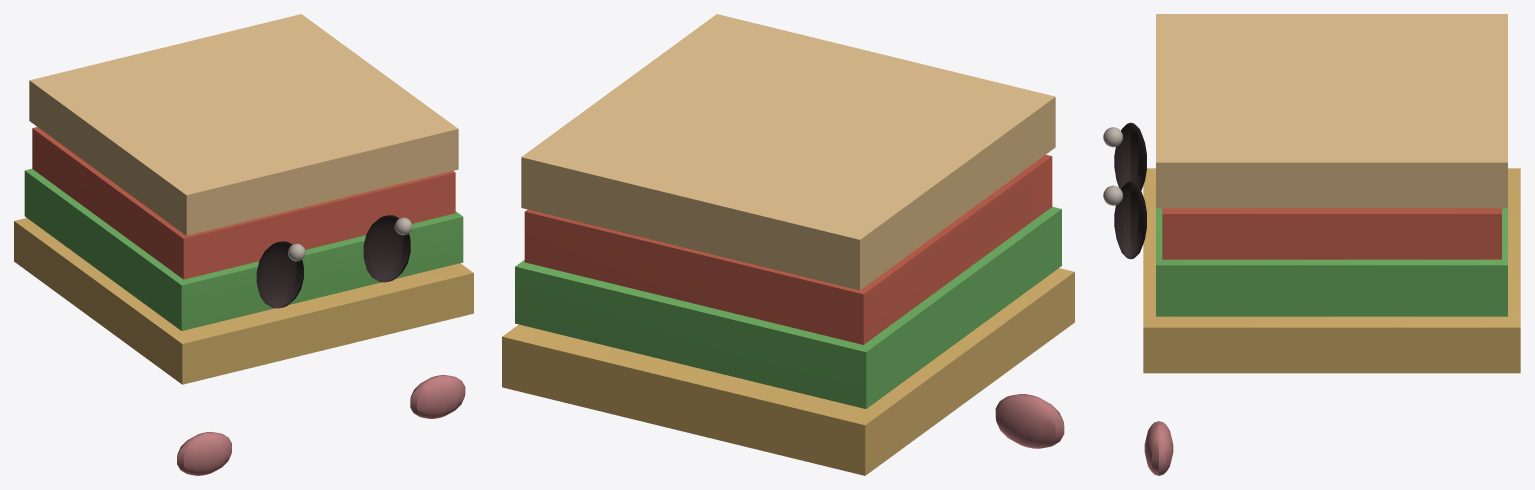
3 views of the same model, side by side, from view 1: azimuth 30°, elevation 25°; view 2: azimuth 150°, elevation 25°; view 3: azimuth 270°, elevation 25° (orthographic). The views are drawn at different scales.
Visible parts, largest first — view 1: pet_p3795803b; view 2: pet_p3795803b; view 3: pet_p3795803b.
Boxes of the visible parts, left/top/right/bottom form: pet_p3795803b: left=14, top=14, right=473, bottom=475; pet_p3795803b: left=502, top=14, right=1074, bottom=475; pet_p3795803b: left=1103, top=14, right=1520, bottom=475.
Bounding box in the file's own units: 0.3 × 0.2802 × 0.3319.
